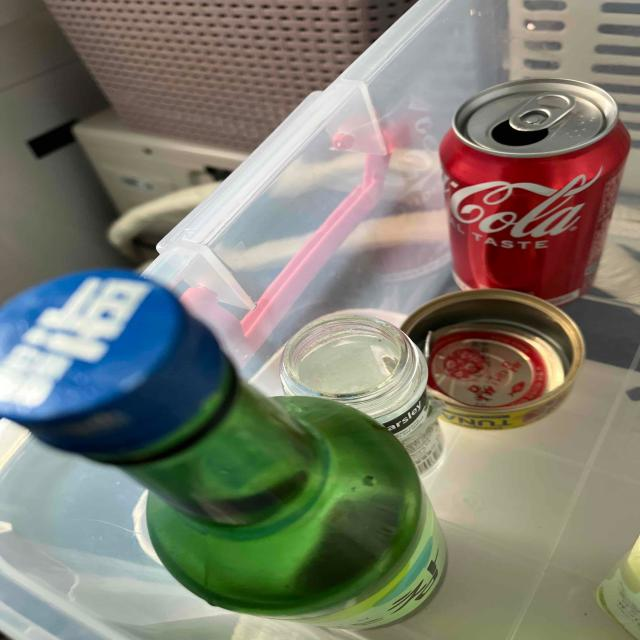can: (437, 76, 636, 304)
